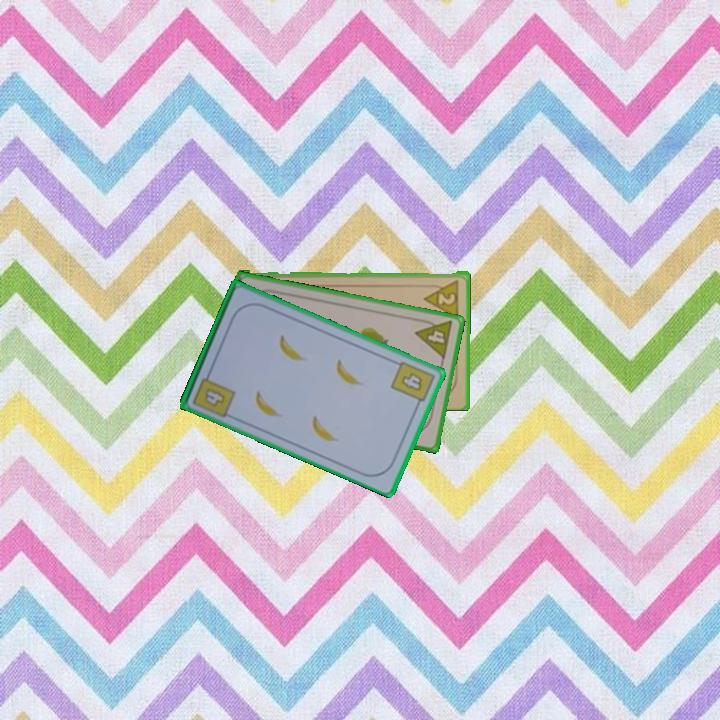2p: (421, 275, 462, 319)
4b: (387, 357, 437, 411), (189, 367, 238, 420)
4p: (412, 315, 456, 362)
